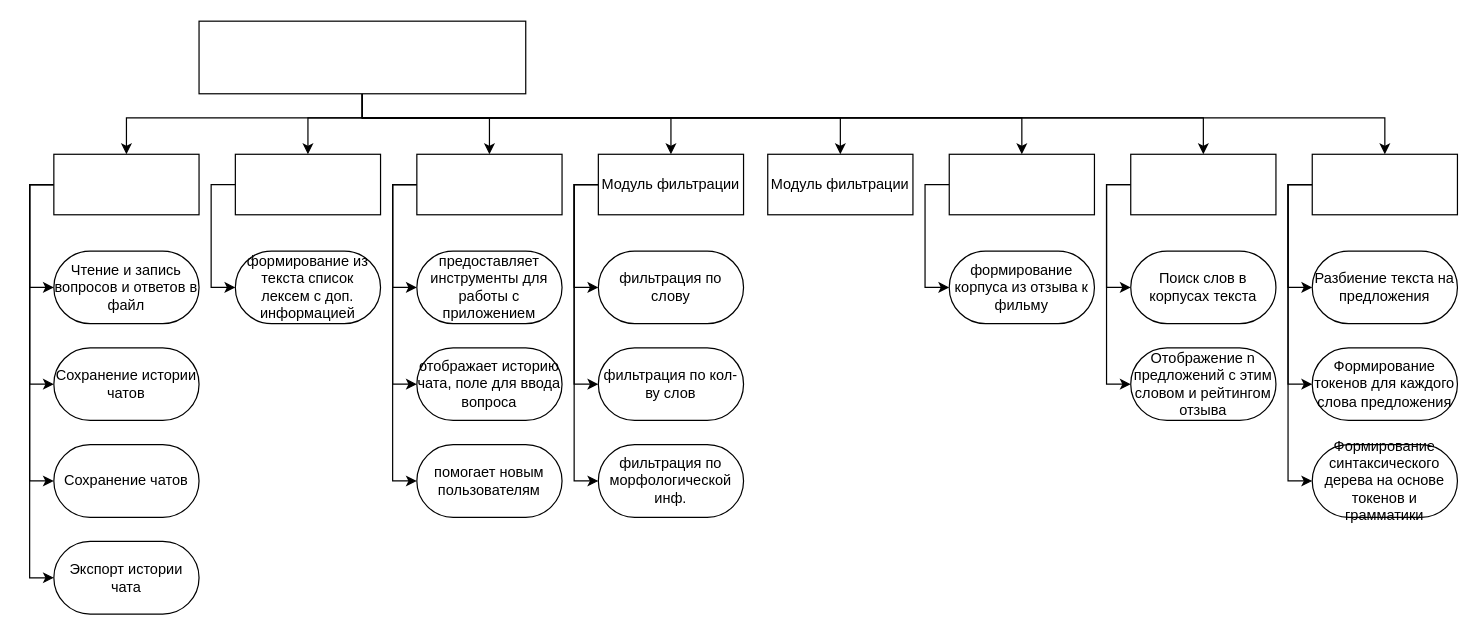
Some shapes in this 1479 by 635 pixel diagram are drawn without their labels. Each missing label, with the centre of its shape:
"Модуль поиска контекста" belongs at pixel 1203 184.
"Модуль представления" belongs at pixel 489 184.
"Модуль работы с файлами" belongs at pixel 126 184.
"Модуль разбора предложения" belongs at pixel 1384 184.
"Модуль формирования корпуса текстов" belongs at pixel 1021 184.
"Модуль формирования ответа" belongs at pixel 307 184.
"Структурно функциональна схема диалоговой системы" belongs at pixel 362 57.
